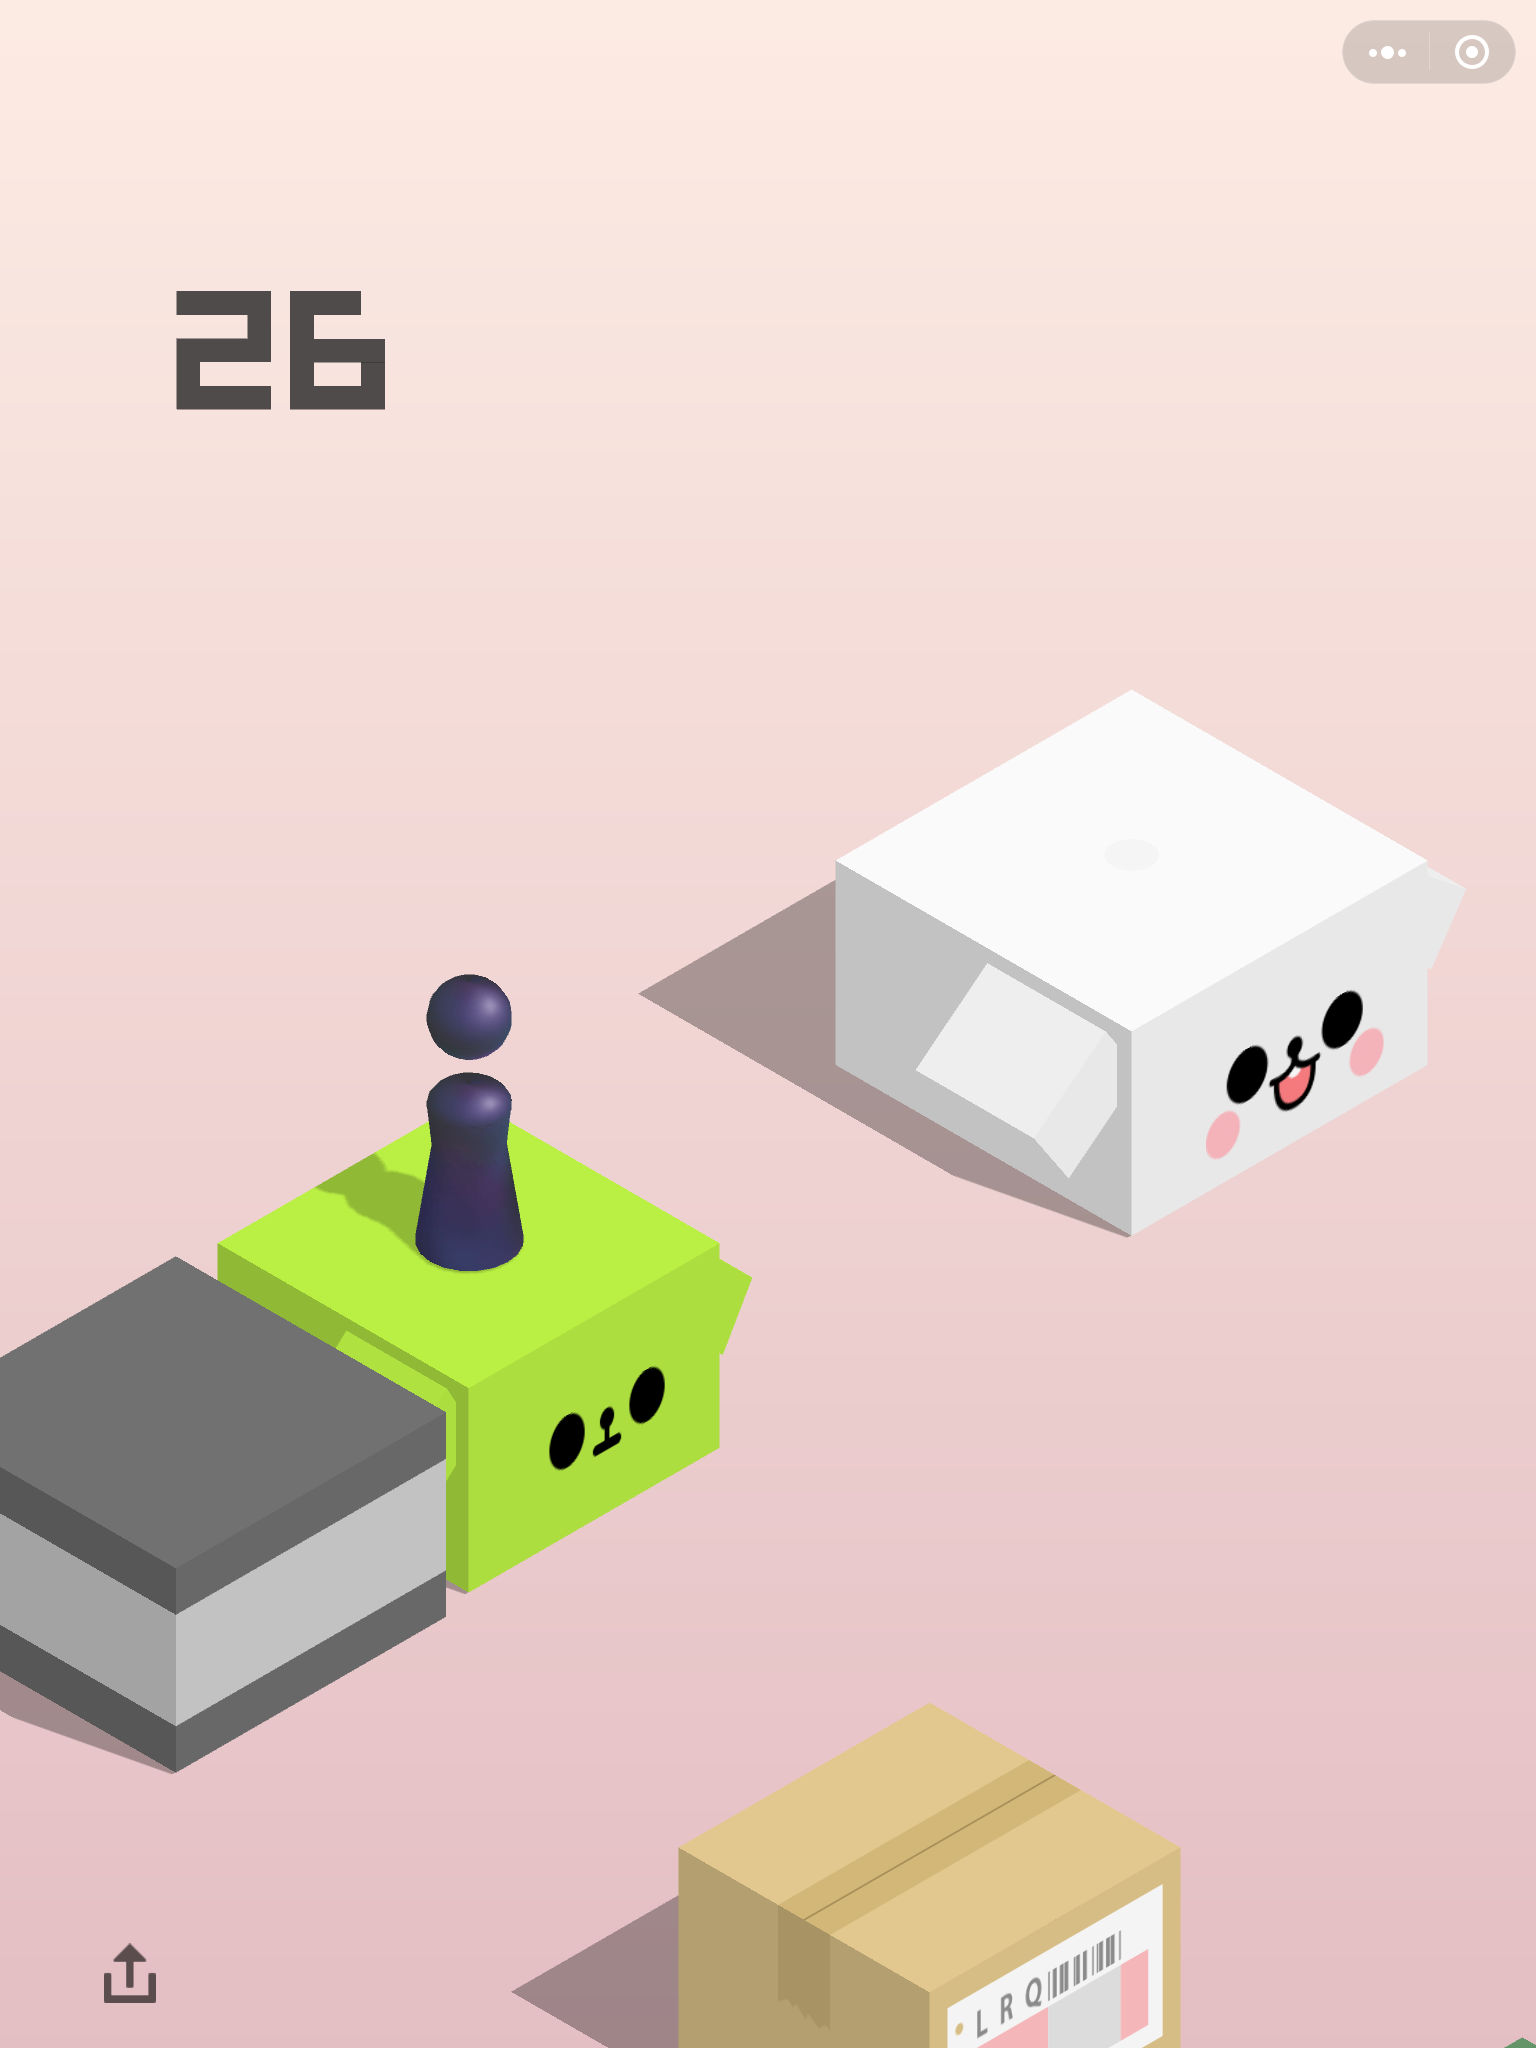f: (829, 685, 1467, 1243), (215, 1100, 755, 1596), (2, 1251, 455, 1775), (670, 1696, 1191, 2048)
r: (410, 968, 532, 1279)
